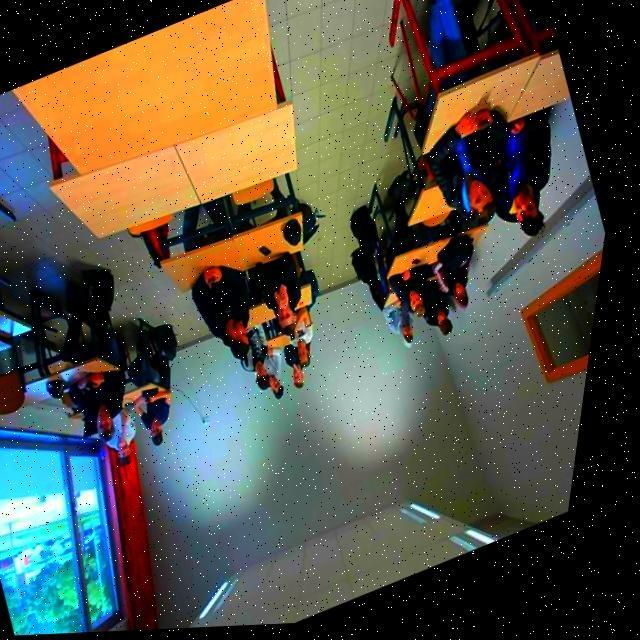phone_use: (407, 107, 548, 233), (62, 357, 168, 456), (123, 382, 169, 443), (283, 306, 311, 386)
